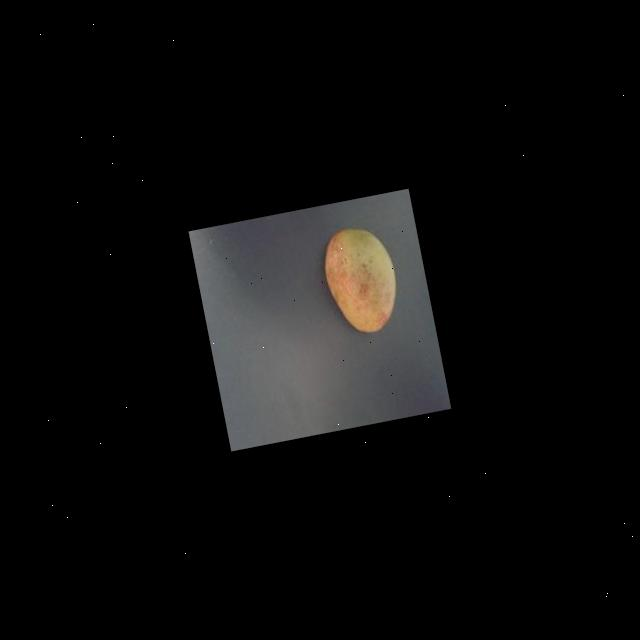Mango: (318, 222, 407, 340)
